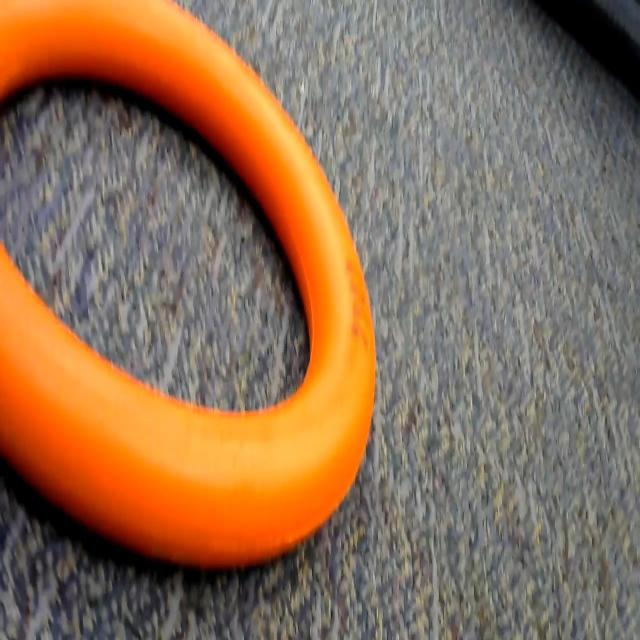note: (0, 1, 384, 579)
